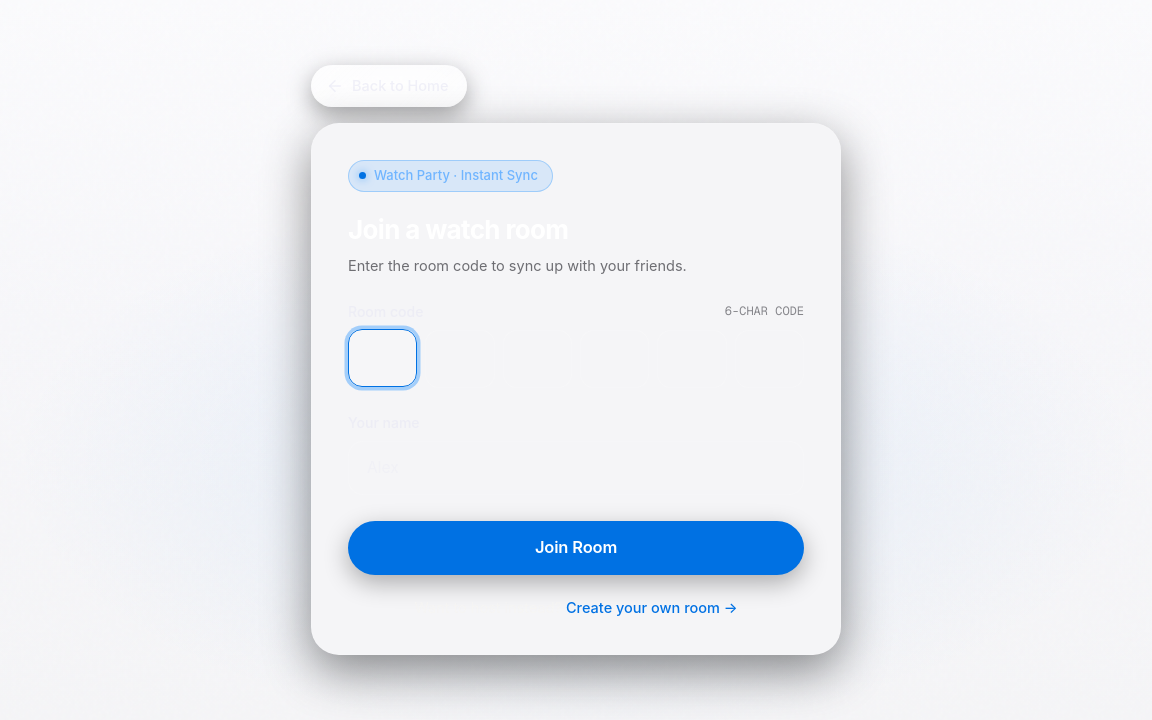
Test: New Cineva Pages — Validation & Prefill Tests › JoinRoomPage › validates incomplete room code (<6 chars) on submit
Click the button "Join Room": (576, 548) x1=348 y1=520 x2=804 y2=574
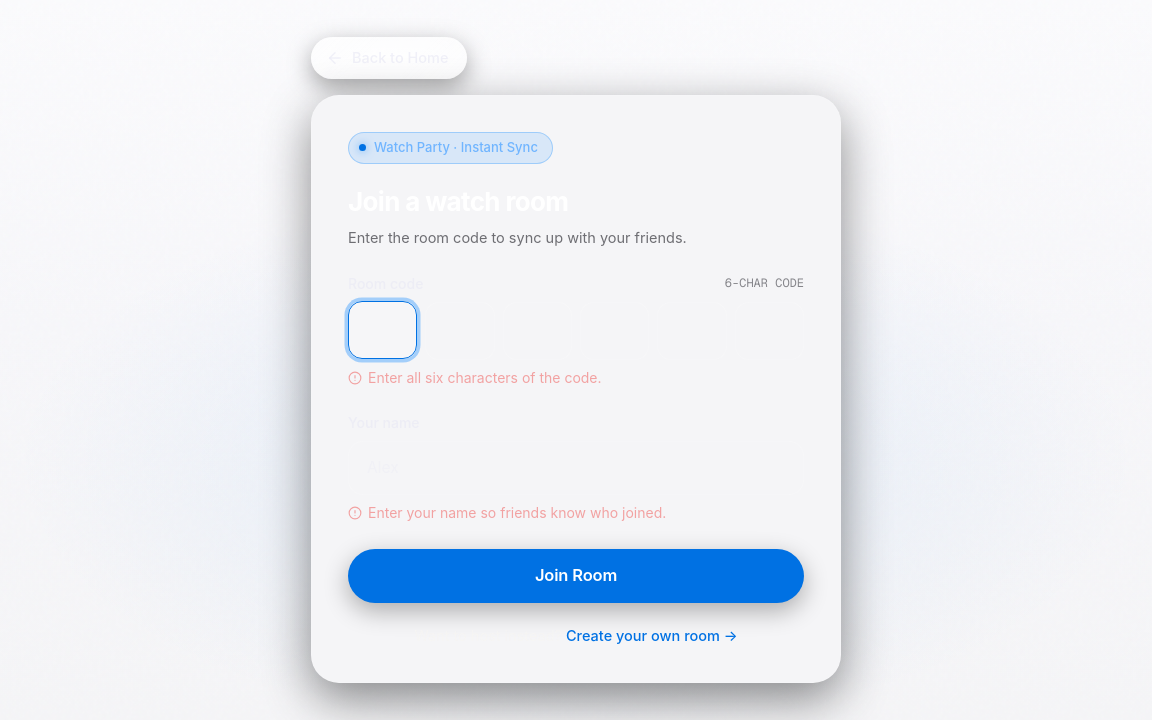
Check: the text "Enter all six characters of the code." is shown, box x1=368 y1=370 x2=602 y2=386
